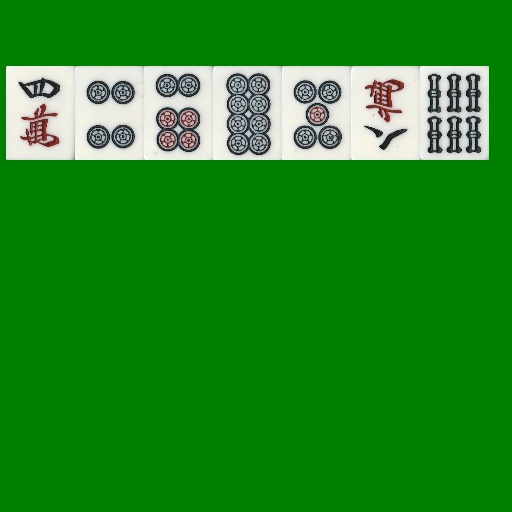4m: (6, 66, 75, 160)
4p: (75, 66, 144, 160)
5p: (282, 66, 351, 160)
6p: (144, 66, 213, 160)
6s: (420, 66, 489, 160)
8m: (351, 66, 420, 160)
8p: (213, 66, 282, 160)
